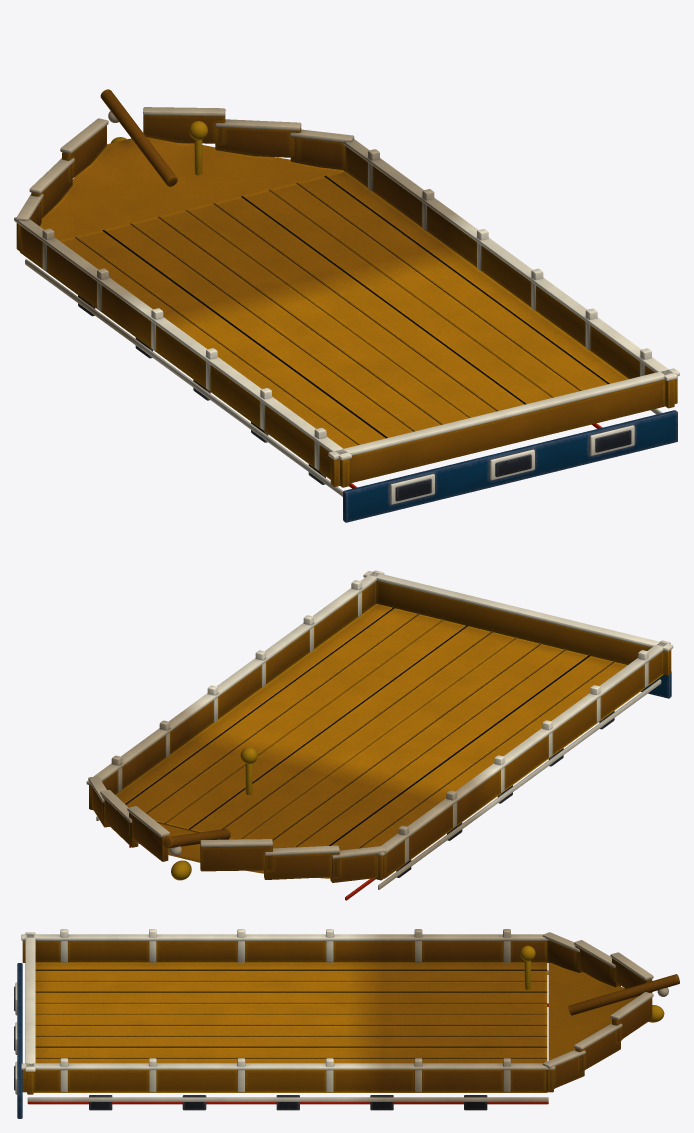
File: PlayerShipDeco.fbx
3 views of the same model, one above another, from view 1: azimuth 30°, elevation 25°; view 2: azimuth 150°, elevation 25°; view 3: azimuth 270°, elevation 25° (orthographic). The views are drawn at different scales.
Parts seen in each view (by area): view 1: PlayerShipDeco; view 2: PlayerShipDeco; view 3: PlayerShipDeco.
Boxes of the visible parts, x1,y1,x2,y2 form: PlayerShipDeco: (14, 89, 679, 522); PlayerShipDeco: (86, 570, 673, 900); PlayerShipDeco: (14, 929, 679, 1118).
Bounding box in the file's own units: 12.5 × 5.05 × 25.57.
